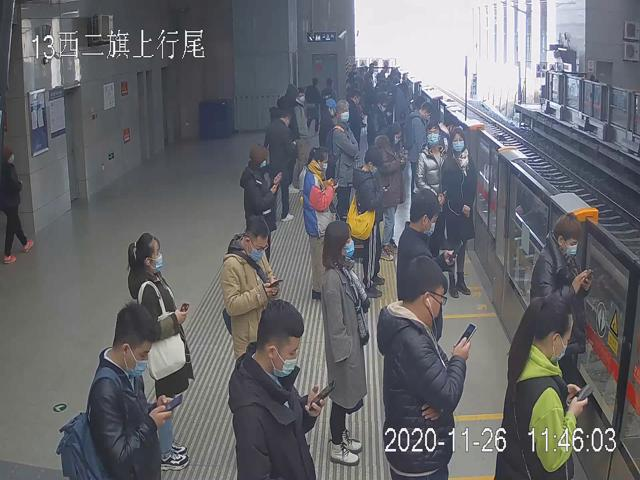person: (377, 255, 471, 480), (493, 294, 589, 480), (227, 298, 325, 480), (125, 231, 195, 470), (92, 300, 174, 480), (321, 220, 371, 466), (530, 212, 592, 380), (221, 215, 281, 360), (396, 188, 448, 340), (300, 144, 338, 300), (443, 126, 476, 299), (352, 145, 386, 298), (415, 122, 449, 267), (239, 142, 279, 265), (375, 121, 407, 260), (327, 99, 358, 223), (266, 109, 296, 222)
